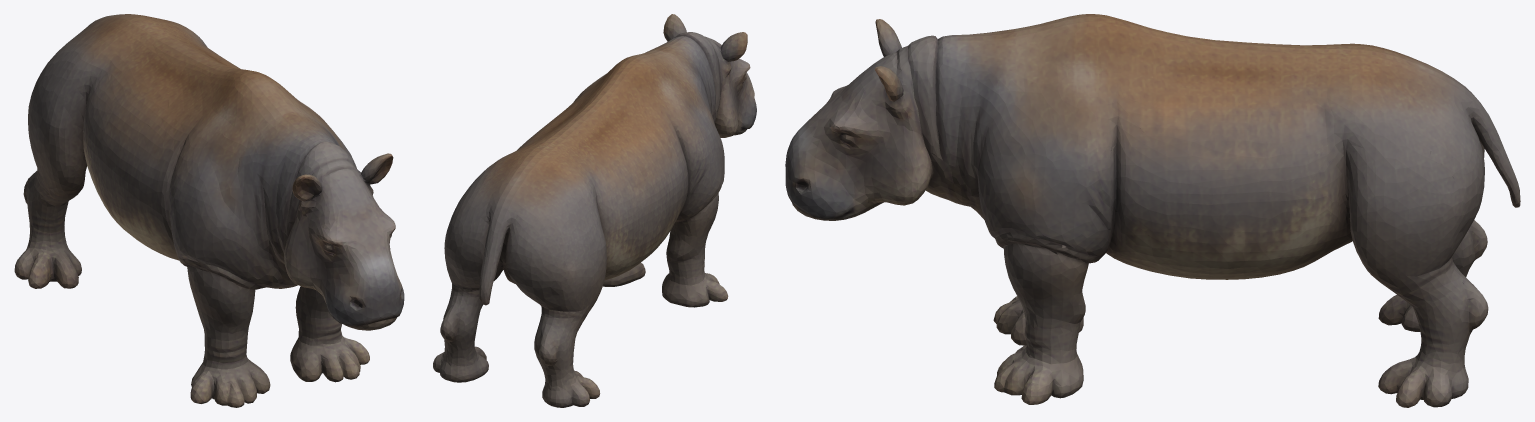
The model's file is model-a6bfcfa13e58.glb.
The picture shows the model from 3 angles, left to right: view 1: azimuth 30°, elevation 25°; view 2: azimuth 150°, elevation 25°; view 3: azimuth 270°, elevation 25°; orthographic projection. The views are drawn at different scales.
Visible parts, largest first — view 1: world; view 2: world; view 3: world.
Part boxes in pixels (<box>): world: <box>14,14,404,407</box>; world: <box>433,14,756,407</box>; world: <box>785,14,1520,407</box>.
Bounding box in the file's own units: 0.3437 × 0.5121 × 1.
1 material, 1 textured.
